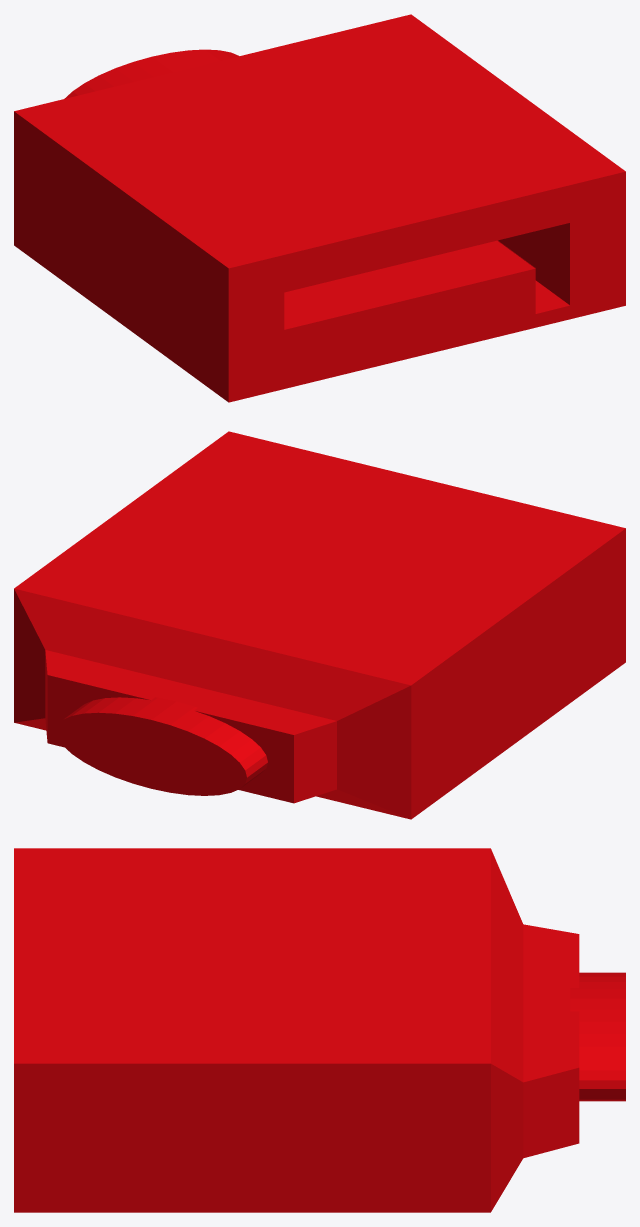
File: SATA2E.fbx
3 views of the same model, one above another, from view 1: azimuth 30°, elevation 25°; view 2: azimuth 150°, elevation 25°; view 3: azimuth 270°, elevation 25° (orthographic). The views are drawn at different scales.
Parts seen in each view (by area): view 1: SATA2E; view 2: SATA2E; view 3: SATA2E.
Boxes of the visible parts, x1,y1,x2,y2 form: SATA2E: [14, 14, 625, 402]; SATA2E: [14, 431, 625, 819]; SATA2E: [14, 848, 625, 1212].
Bounding box in the file's own units: 14.28 × 4.61 × 17.16.
